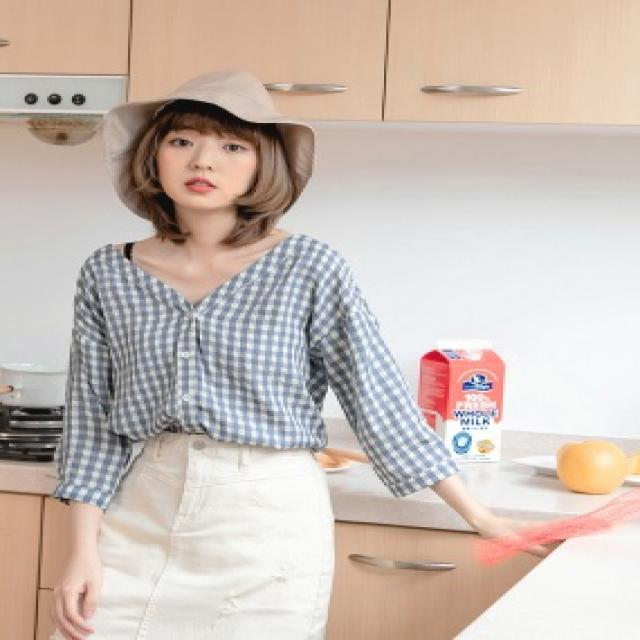plaid: (42, 245, 443, 504)
